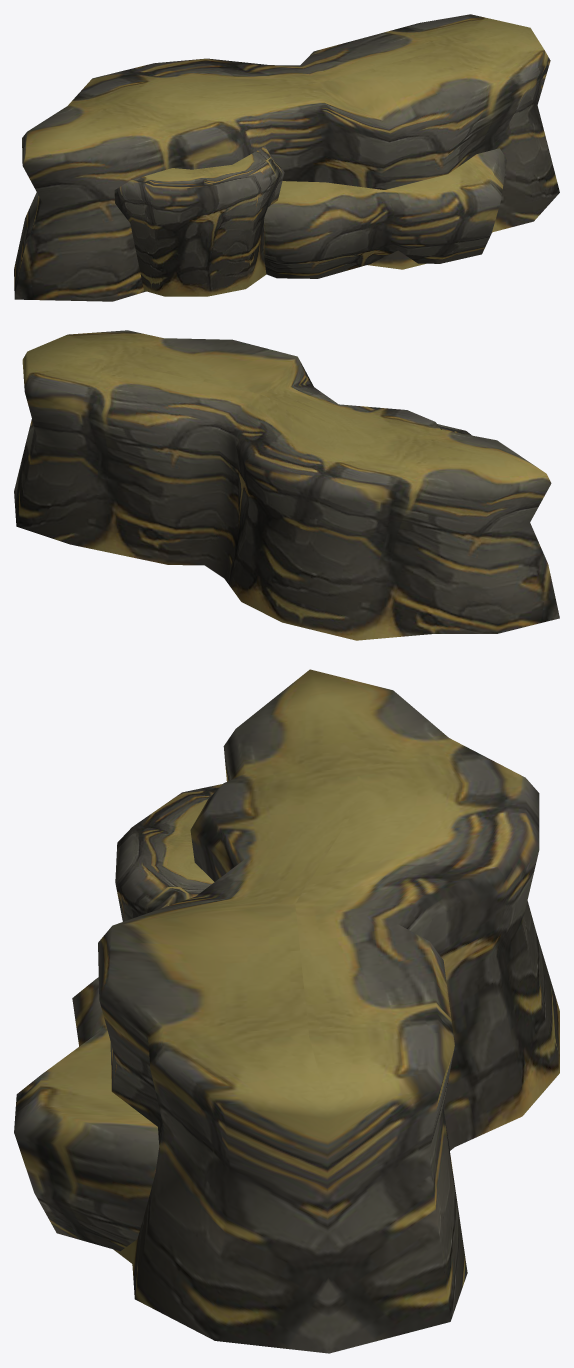
The model's file is Battle05_Stone_01.FBX.
The picture shows the model from 3 angles, top to bottom: view 1: azimuth 30°, elevation 25°; view 2: azimuth 150°, elevation 25°; view 3: azimuth 270°, elevation 25°; orthographic projection. The views are drawn at different scales.
Parts seen in each view (by area): view 1: Battle05_Stone_01; view 2: Battle05_Stone_01; view 3: Battle05_Stone_01.
Boxes of the visible parts, left/top/right/bottom form: Battle05_Stone_01: left=14, top=14, right=559, bottom=301; Battle05_Stone_01: left=14, top=330, right=559, bottom=640; Battle05_Stone_01: left=14, top=669, right=559, bottom=1353.
Bounding box in the file's own units: 25.58 × 6.69 × 13.09.
